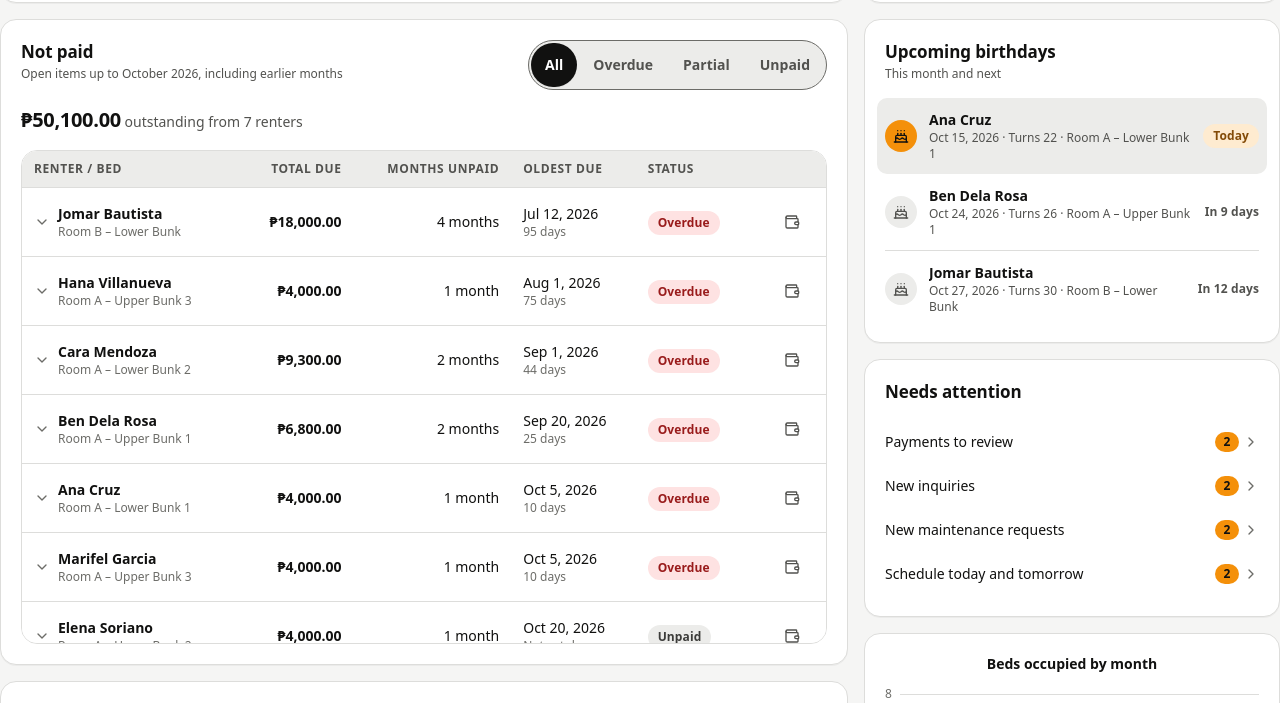
Test: AdminDashboardPage (F12, R28, SC-26; dashboard design pass) › records a payment toward a renter's total, oldest month first, with a preview
(page scrolled)
Click the button named "Record payment toward the total of Cara Mendoza" at (792, 360), box [770, 338, 814, 382]
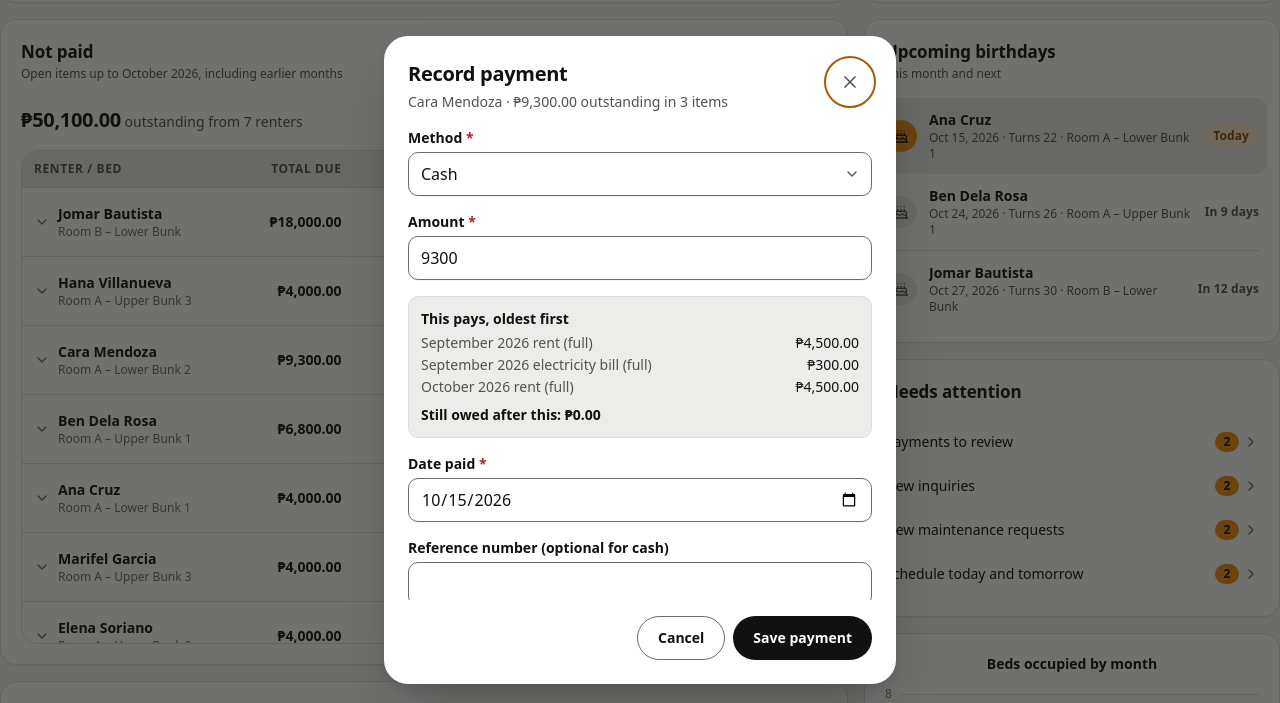
Expected: the dialog shows "₱9,300.00 outstanding in 3 items", [408, 92, 728, 111]
Replace the text in the field labelled "Amount *" with "4800" at (640, 258), box [408, 236, 872, 280]
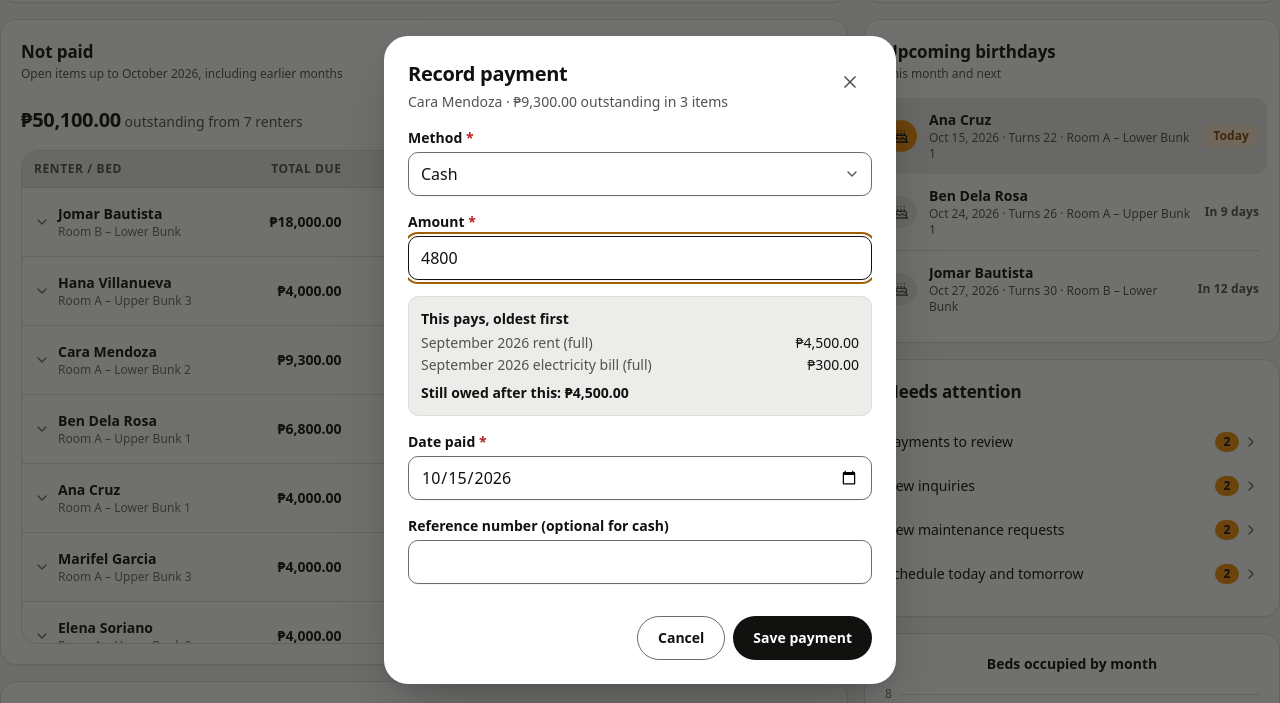
Expected: the dialog shows "September 2026 rent (full)", [384, 36, 896, 684]
Expected: the dialog shows "September 2026 electricity bill (full)", [384, 36, 896, 684]
Expected: the dialog shows "Still owed after this: ₱4,500.00", [421, 383, 629, 402]
Click the button "Save payment" at (803, 638), box [733, 616, 872, 660]
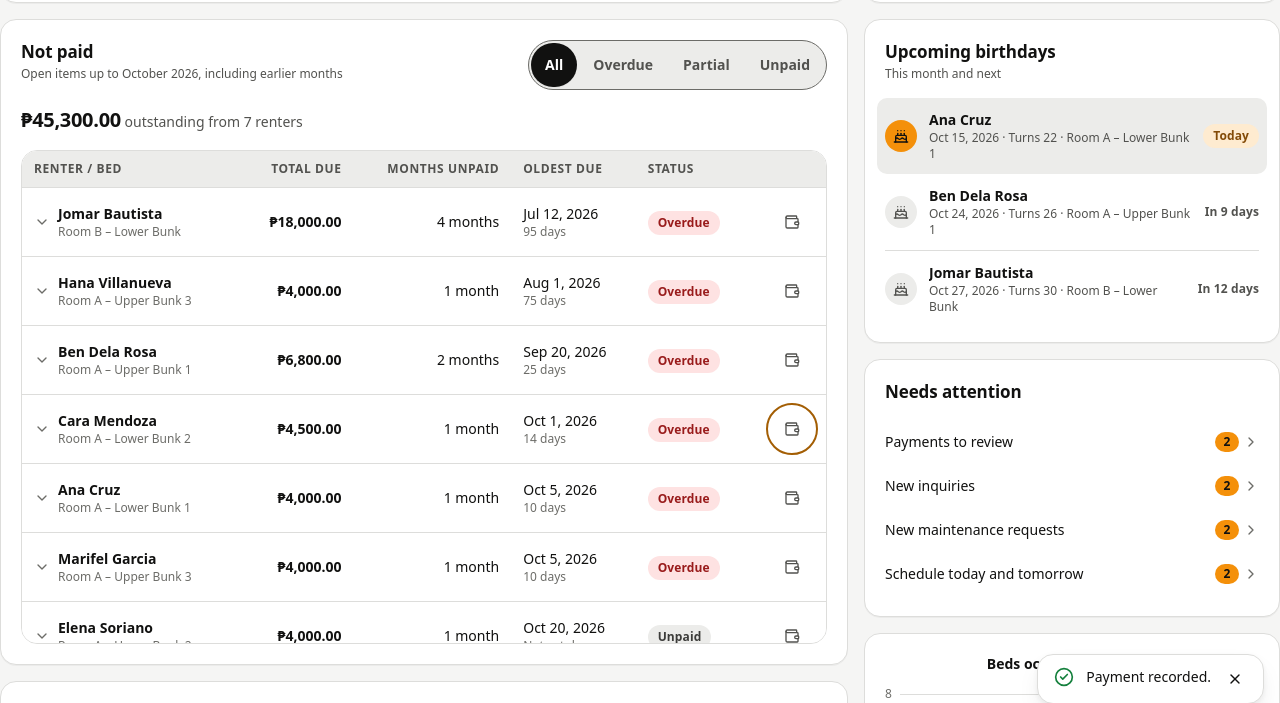
Expected: the text "Payment recorded." is shown, [1086, 667, 1211, 687]
